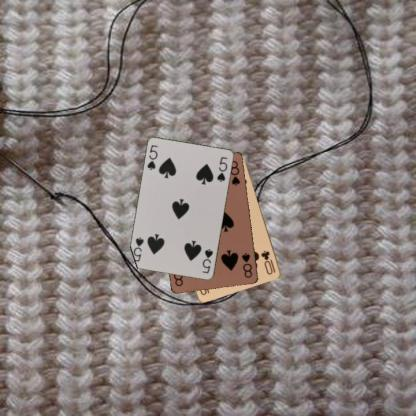10c: (259, 248, 277, 276)
5s: (144, 142, 159, 172), (200, 247, 214, 274)
8s: (239, 251, 254, 279)
